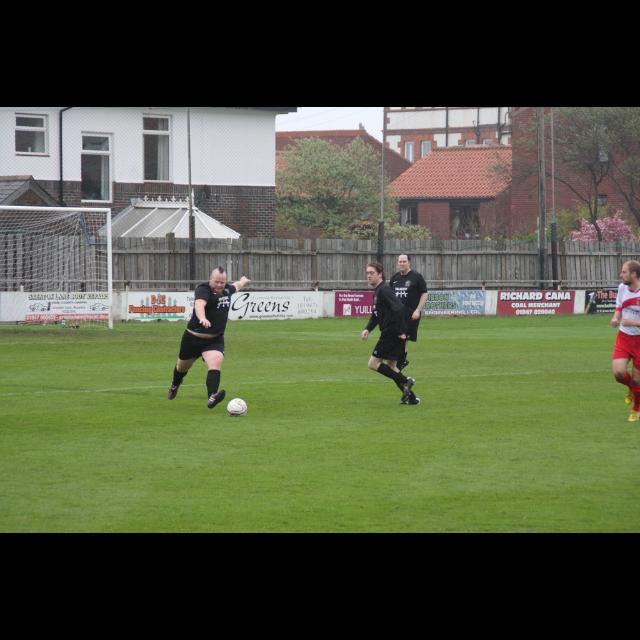Football: (227, 397, 246, 415)
